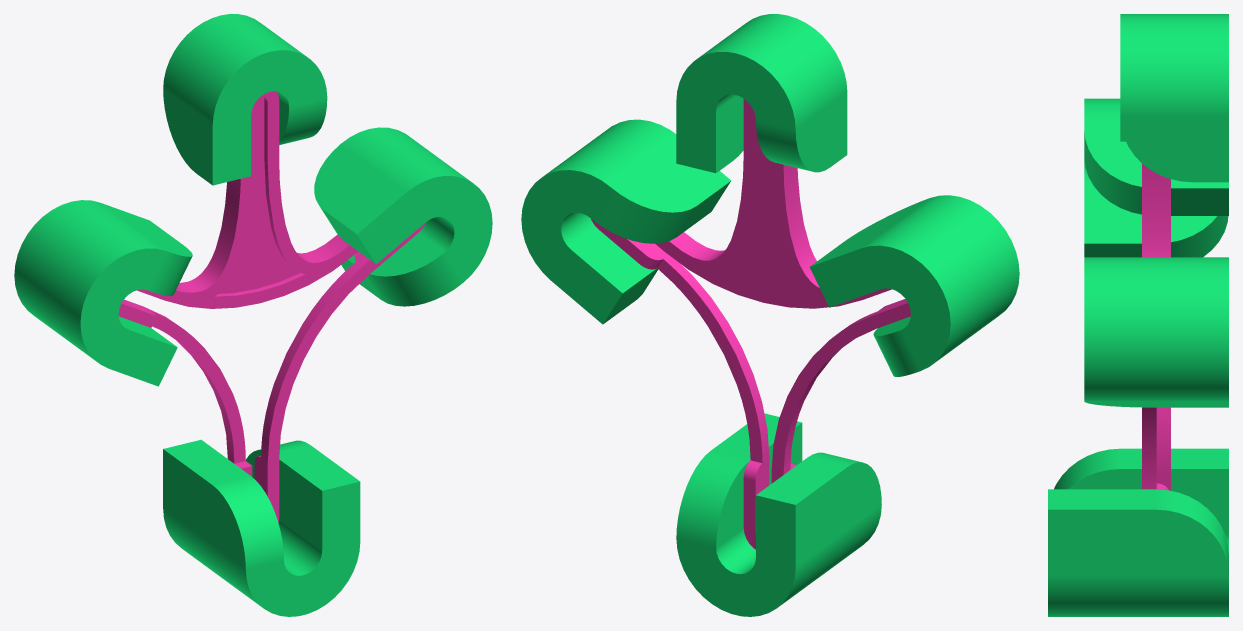
Rendered from ORGANIZACION 5.obj.
3 views of the same model, side by side, from view 1: azimuth 30°, elevation 25°; view 2: azimuth 150°, elevation 25°; view 3: azimuth 270°, elevation 25° (orthographic). The views are drawn at different scales.
Parts seen in each view (by area): view 1: Body3, Body14, Body1, Body2, Body4; view 2: Body3, Body14, Body1, Body2, Body4; view 3: Body3, Body1, Body4, Body2, Body14.
Part boxes in pixels (x1,y1,x2,y2): Body3: [163, 439, 360, 616]; Body14: [118, 91, 425, 522]; Body1: [314, 127, 492, 306]; Body2: [14, 200, 192, 386]; Body4: [163, 14, 327, 185]; Body3: [676, 413, 881, 616]; Body14: [591, 99, 910, 549]; Body1: [521, 119, 731, 324]; Body2: [809, 195, 1019, 376]; Body4: [676, 14, 847, 173]; Body3: [1048, 448, 1228, 616]; Body1: [1084, 257, 1228, 407]; Body4: [1120, 14, 1228, 182]; Body2: [1084, 98, 1228, 257]; Body14: [1142, 163, 1170, 490].
Bounding box in the file's own units: 17.99 × 22.49 × 6.25.
